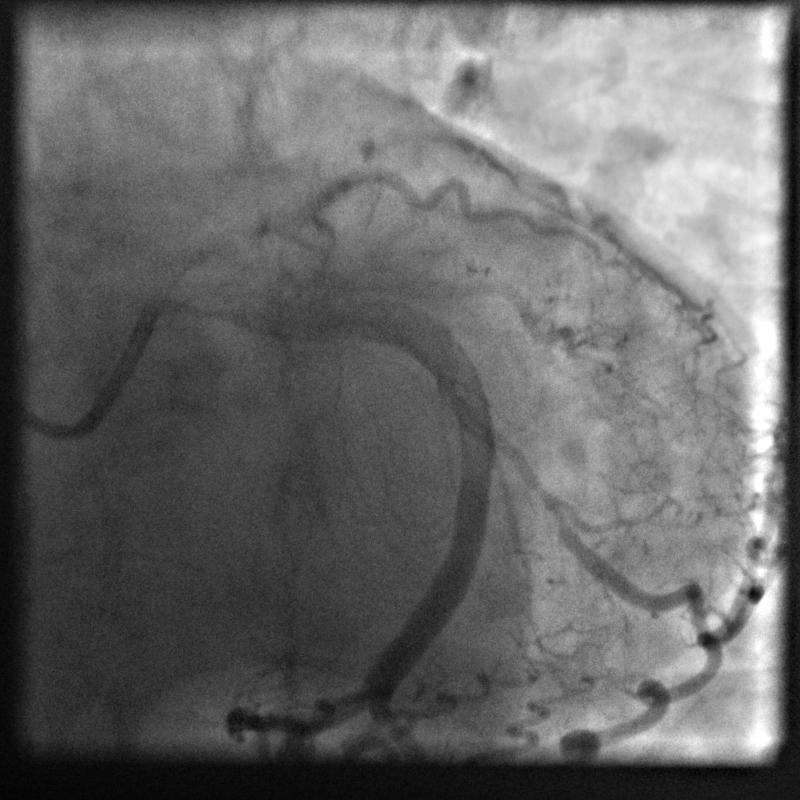Stenosis: (484, 412, 573, 534)
